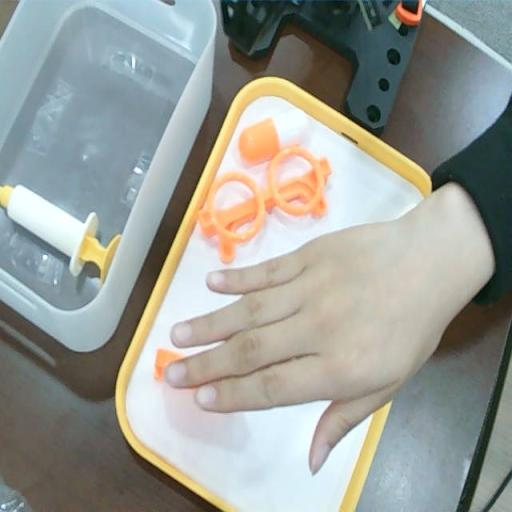hospital: (161, 194, 460, 482)
